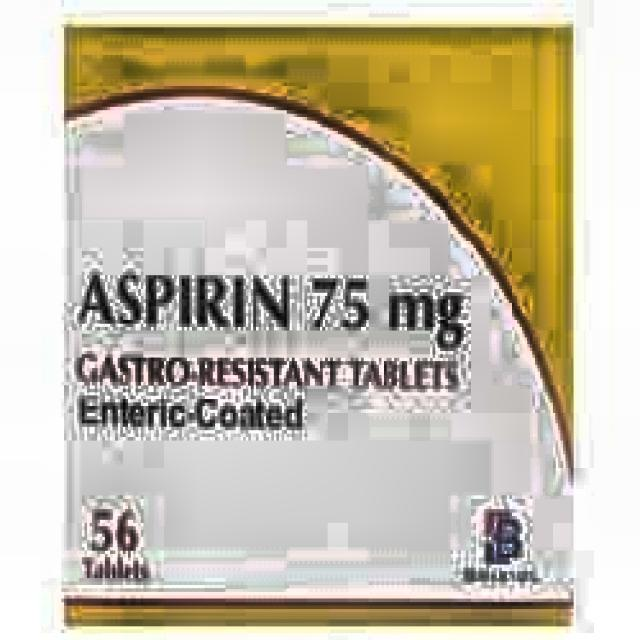Aspirin: (70, 255, 298, 347)
